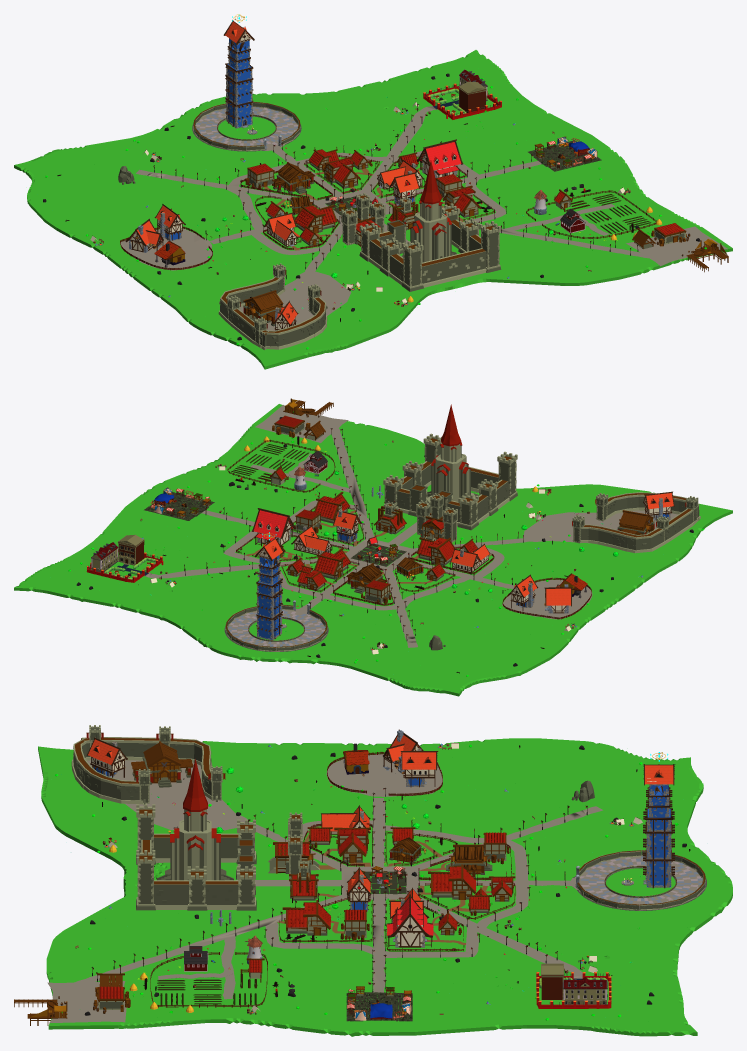
The model's file is island_model_unchunked.glb.
The picture shows the model from 3 angles, top to bottom: view 1: azimuth 30°, elevation 25°; view 2: azimuth 150°, elevation 25°; view 3: azimuth 270°, elevation 25°; orthographic projection. The views are drawn at different scales.
Parts seen in each view (by area): view 1: Cube.003, path, WonderWalls_SecondAge, Wall_SecondAge.002, House_3.001, Temple_SecondAge_Level2, Grid, Path_Straight.001, Plane.001, Barracks_SecondAge_Level3, Plane, Inn (+17 smaller); view 2: Cube.003, path, WonderWalls_SecondAge, Wall_SecondAge.002, House_3.001, Temple_SecondAge_Level2, Grid, Path_Straight.001, Barracks_SecondAge_Level3, Plane.001, Inn, Plane (+21 smaller); view 3: Cube.003, path, WonderWalls_SecondAge, Wall_SecondAge.002, Temple_SecondAge_Level2, House_3.001, Grid, Path_Straight.001, Plane.001, Plane, Inn, Wall_SecondAge (+26 smaller).
Part boxes in pixels (<box>): Cube.003: <box>14,50,732,369</box>; path: <box>136,106,648,271</box>; WonderWalls_SecondAge: <box>359,203,501,291</box>; Wall_SecondAge.002: <box>218,276,327,349</box>; House_3.001: <box>223,20,254,128</box>; Temple_SecondAge_Level2: <box>402,160,456,262</box>; Grid: <box>239,271,351,330</box>; Path_Straight.001: <box>192,107,301,151</box>; Plane.001: <box>120,228,212,270</box>; Barracks_SecondAge_Level3: <box>341,193,385,246</box>; Plane: <box>626,226,727,266</box>; Inn: <box>416,139,463,177</box>; Cube.003: <box>14,404,732,696</box>; path: <box>144,428,528,647</box>; WonderWalls_SecondAge: <box>383,433,517,530</box>; Wall_SecondAge.002: <box>578,492,700,553</box>; House_3.001: <box>254,537,284,640</box>; Temple_SecondAge_Level2: <box>427,404,478,503</box>; Grid: <box>523,510,677,543</box>; Path_Straight.001: <box>224,609,328,651</box>; Barracks_SecondAge_Level3: <box>416,493,457,542</box>; Plane.001: <box>502,579,592,619</box>; Inn: <box>251,508,295,546</box>; Plane: <box>255,405,348,442</box>; Cube.003: <box>38,738,732,1036</box>; path: <box>75,798,602,999</box>; WonderWalls_SecondAge: <box>136,804,256,910</box>; Wall_SecondAge.002: <box>71,737,217,804</box>; Temple_SecondAge_Level2: <box>157,759,233,880</box>; House_3.001: <box>643,764,675,888</box>; Grid: <box>87,760,247,830</box>; Path_Straight.001: <box>571,856,706,910</box>; Plane.001: <box>326,754,442,796</box>; Plane: <box>47,981,126,1023</box>; Inn: <box>386,894,433,947</box>; Wall_SecondAge: <box>576,850,705,910</box>.
Bounding box in the file's own units: 271 × 59.08 × 280.
9 materials, 6 textured.
